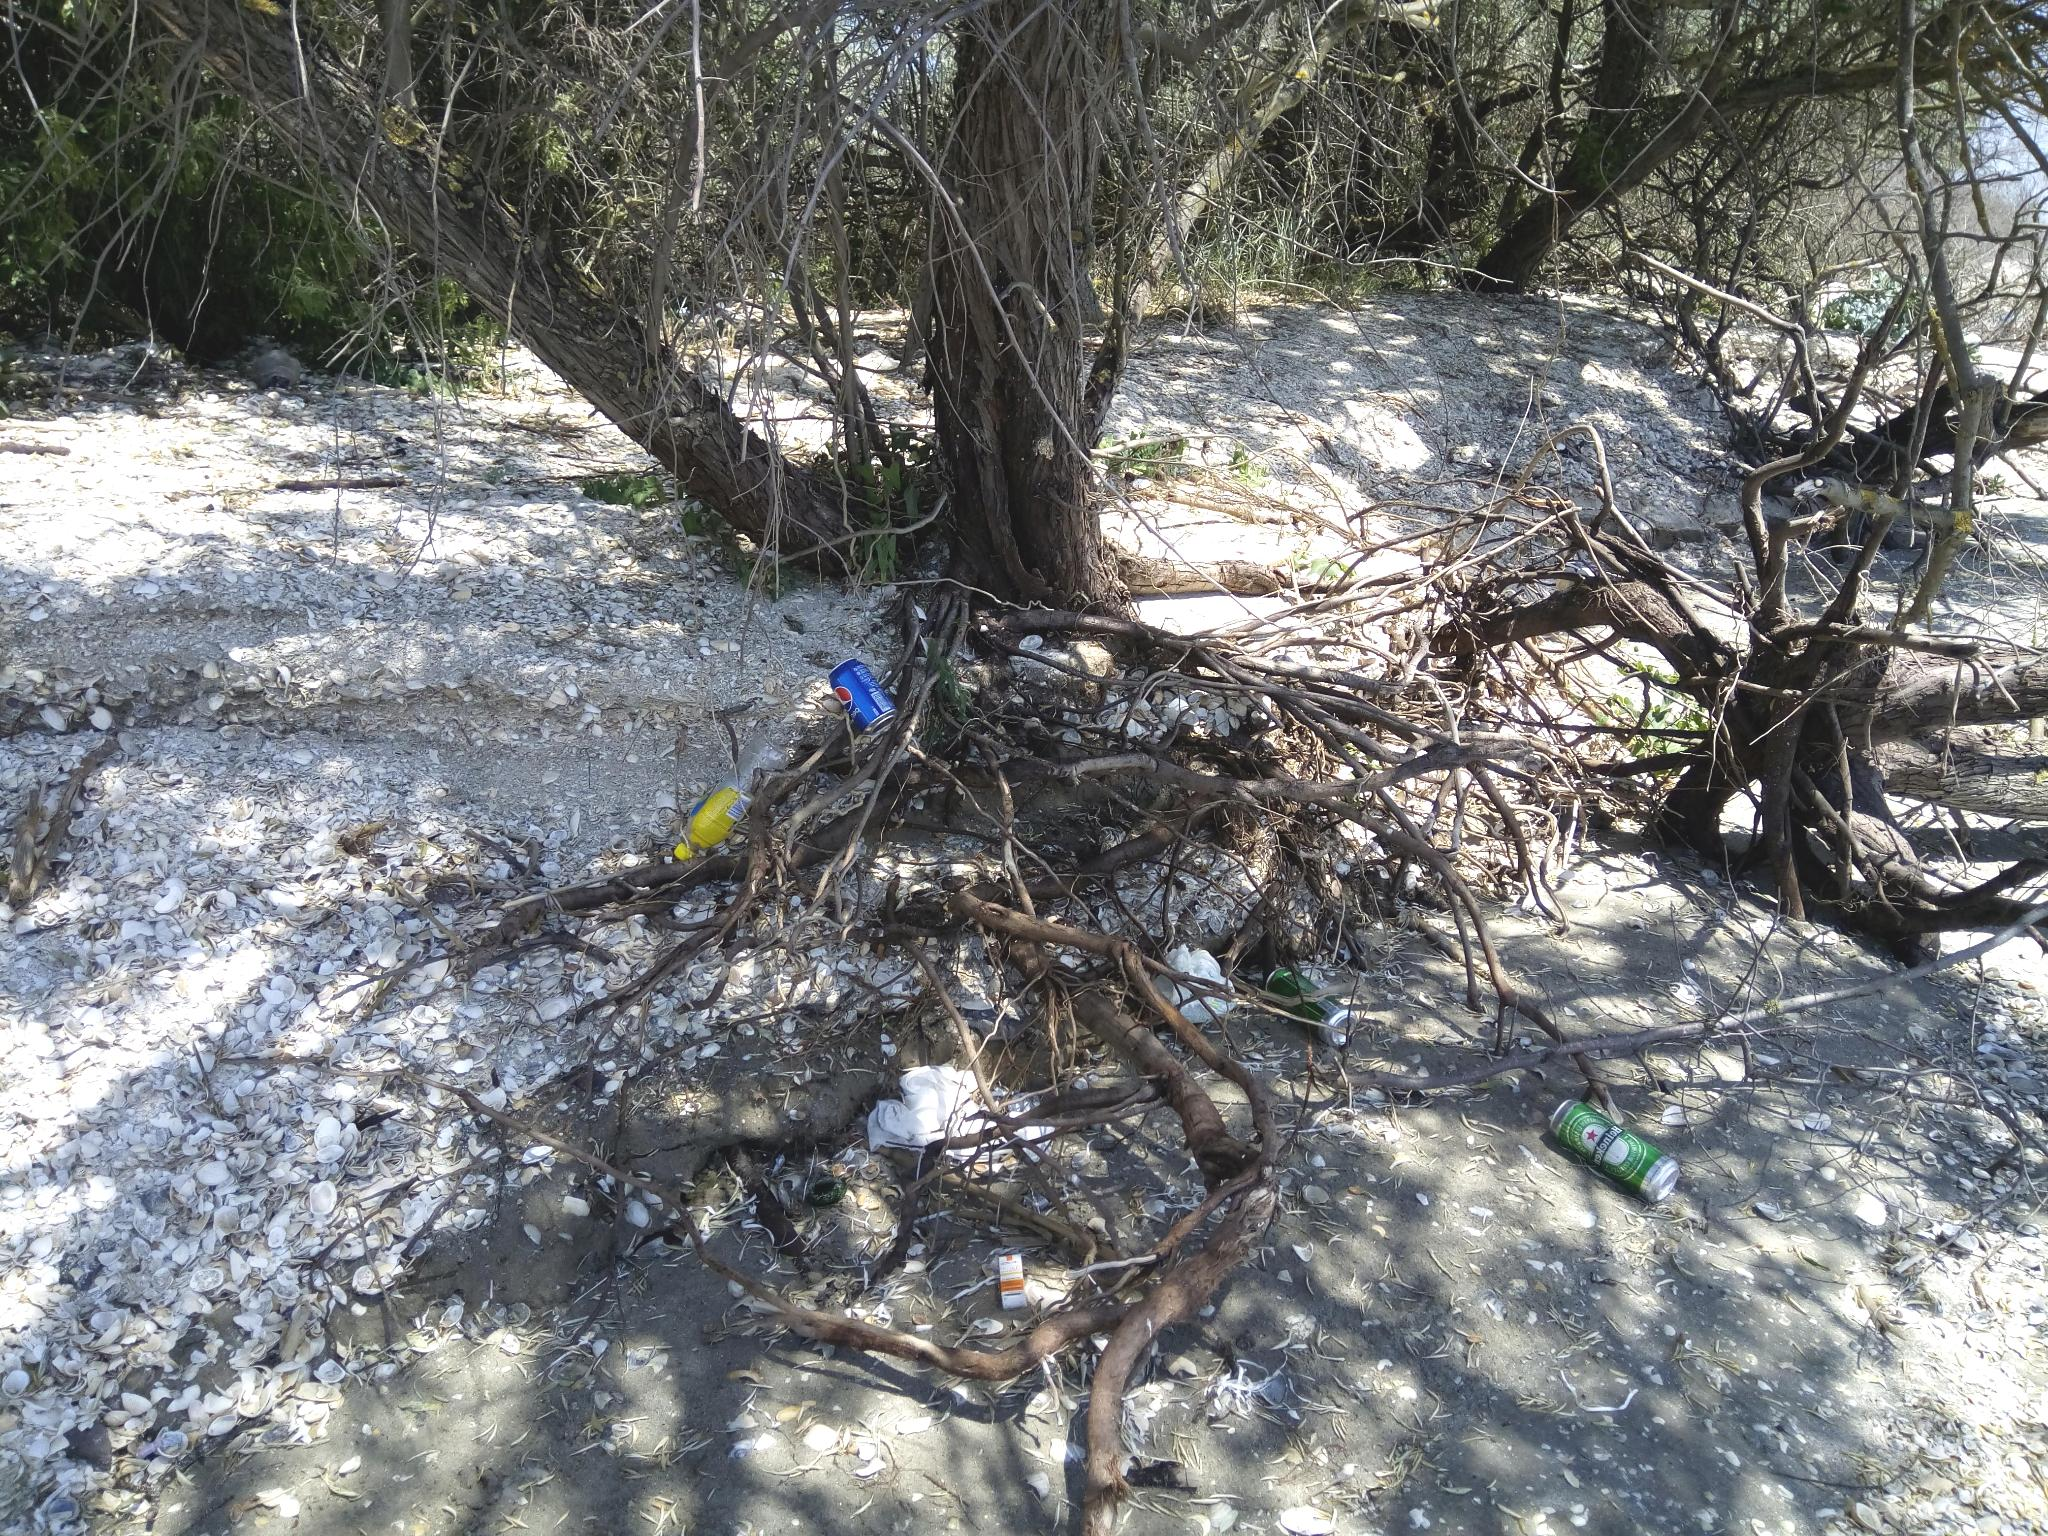bottle: (668, 721, 808, 866)
